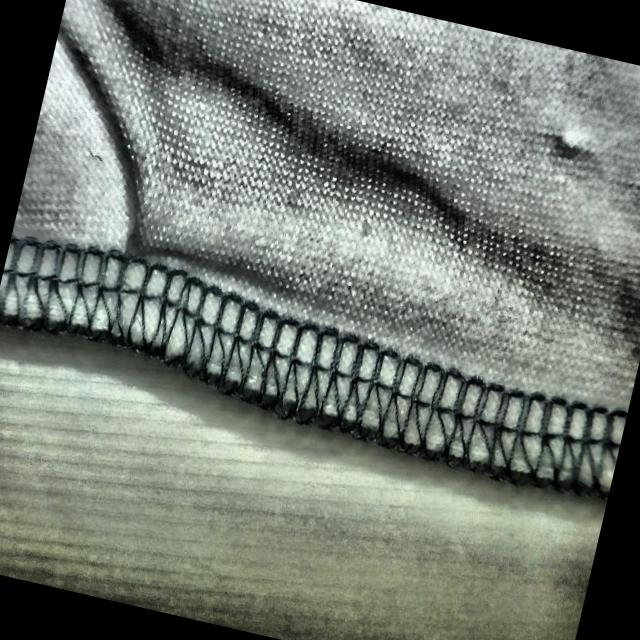gray stitch: (55, 125, 278, 428)
